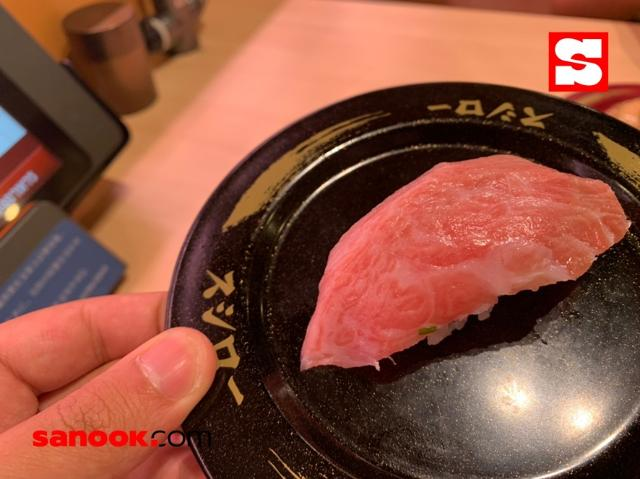janback: (182, 146, 640, 479)
janred: (563, 82, 640, 138)
